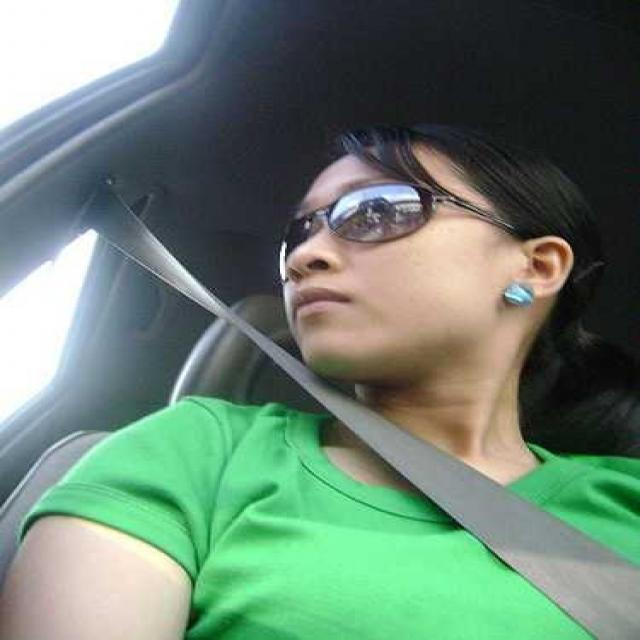seatbelt: (75, 180, 579, 585)
